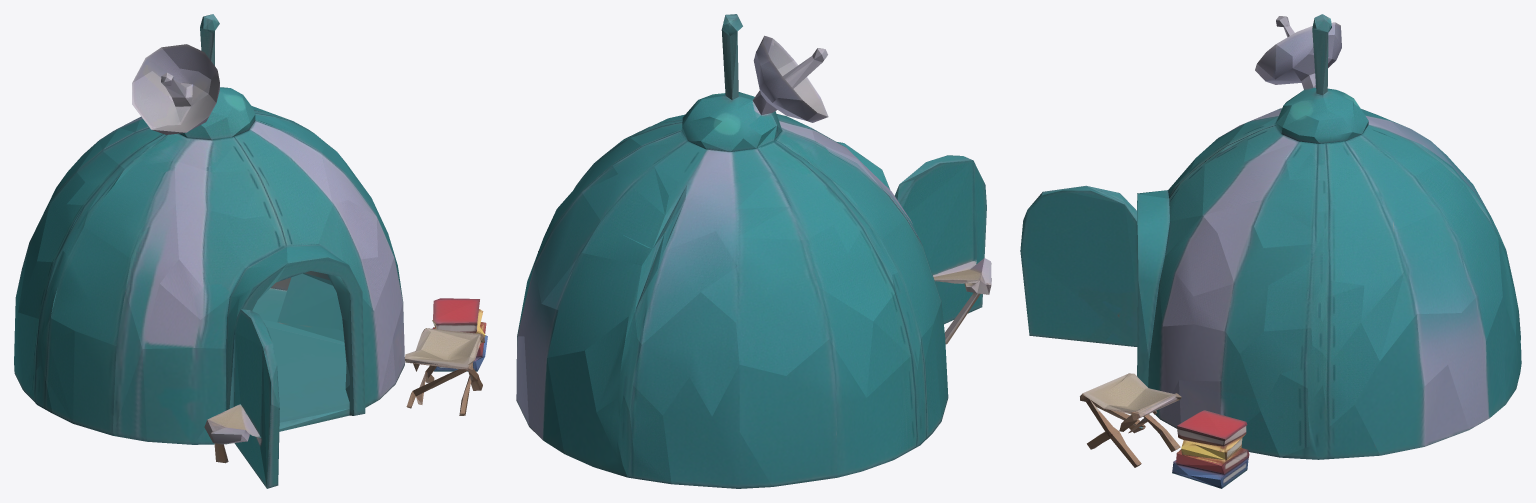
Rendered from meshy.glb.
3 renders of one model, left to right at view 1: azimuth 30°, elevation 25°; view 2: azimuth 150°, elevation 25°; view 3: azimuth 270°, elevation 25°, orthographic. The views are drawn at different scales.
Bounding box in the file's own units: 1.8 × 1.51 × 1.9.
Materials: 1 (1 with a texture image).
